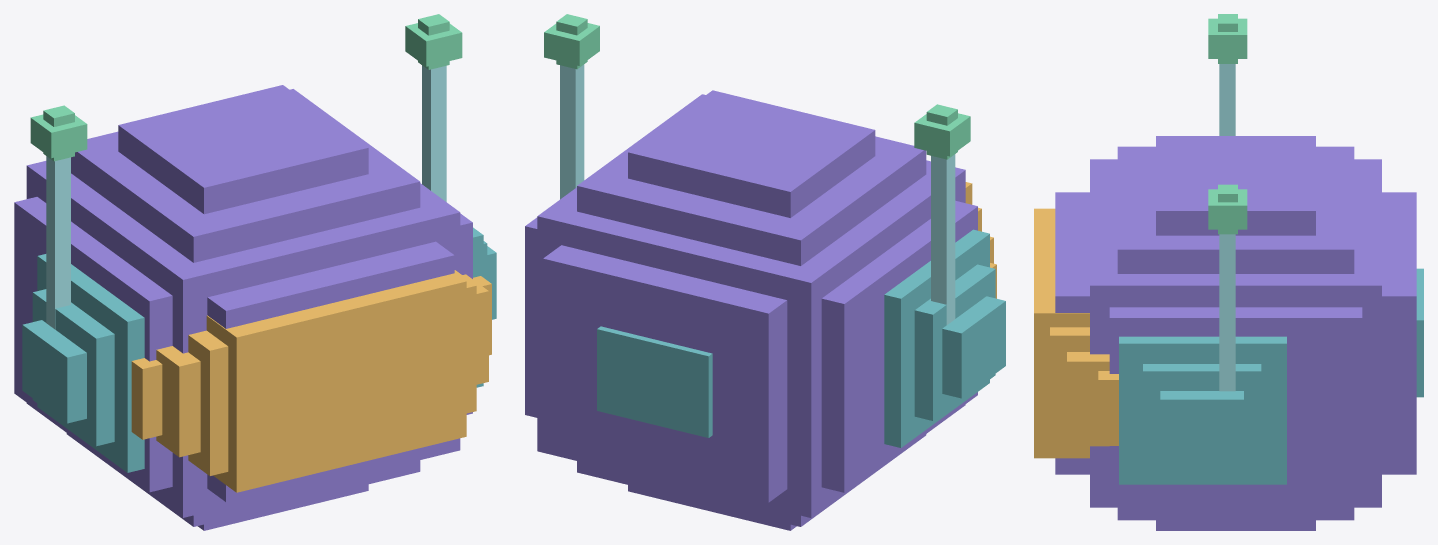
Rendered from robohead_scene.gltf.
The picture shows the model from 3 angles, left to right: view 1: azimuth 30°, elevation 25°; view 2: azimuth 150°, elevation 25°; view 3: azimuth 270°, elevation 25°; orthographic projection. The views are drawn at different scales.
Parts seen in each view (by area): view 1: Box (×18); view 2: Box (×15); view 3: Box (×19).
Boxes of the visible parts, left/top/right/bottom form: Box (×18): left=14, top=14, right=491, bottom=530; Box (×15): left=525, top=14, right=1005, bottom=530; Box (×19): left=1034, top=14, right=1423, bottom=530.
Size of the model in its own units: 3.62 by 3.36 by 3.05.
